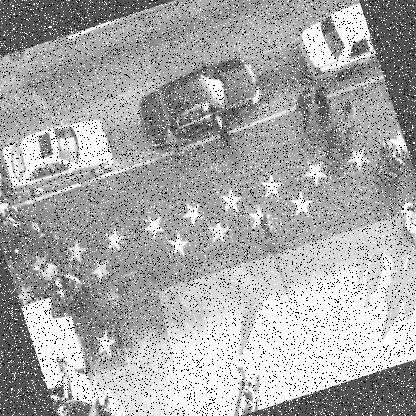Car: (129, 46, 271, 156), (0, 110, 118, 203), (292, 3, 381, 92), (0, 141, 12, 213)
